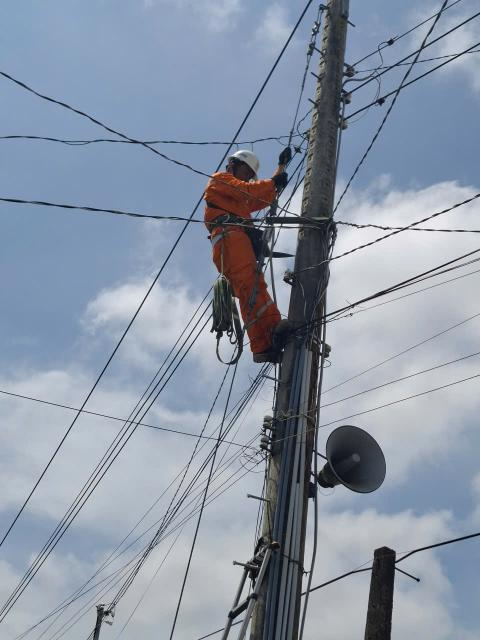gloves: (277, 147, 294, 165), (274, 169, 289, 188)
harness: (193, 214, 265, 231)
helmet: (220, 146, 269, 184)
shoes: (268, 316, 293, 347), (252, 348, 290, 365)
